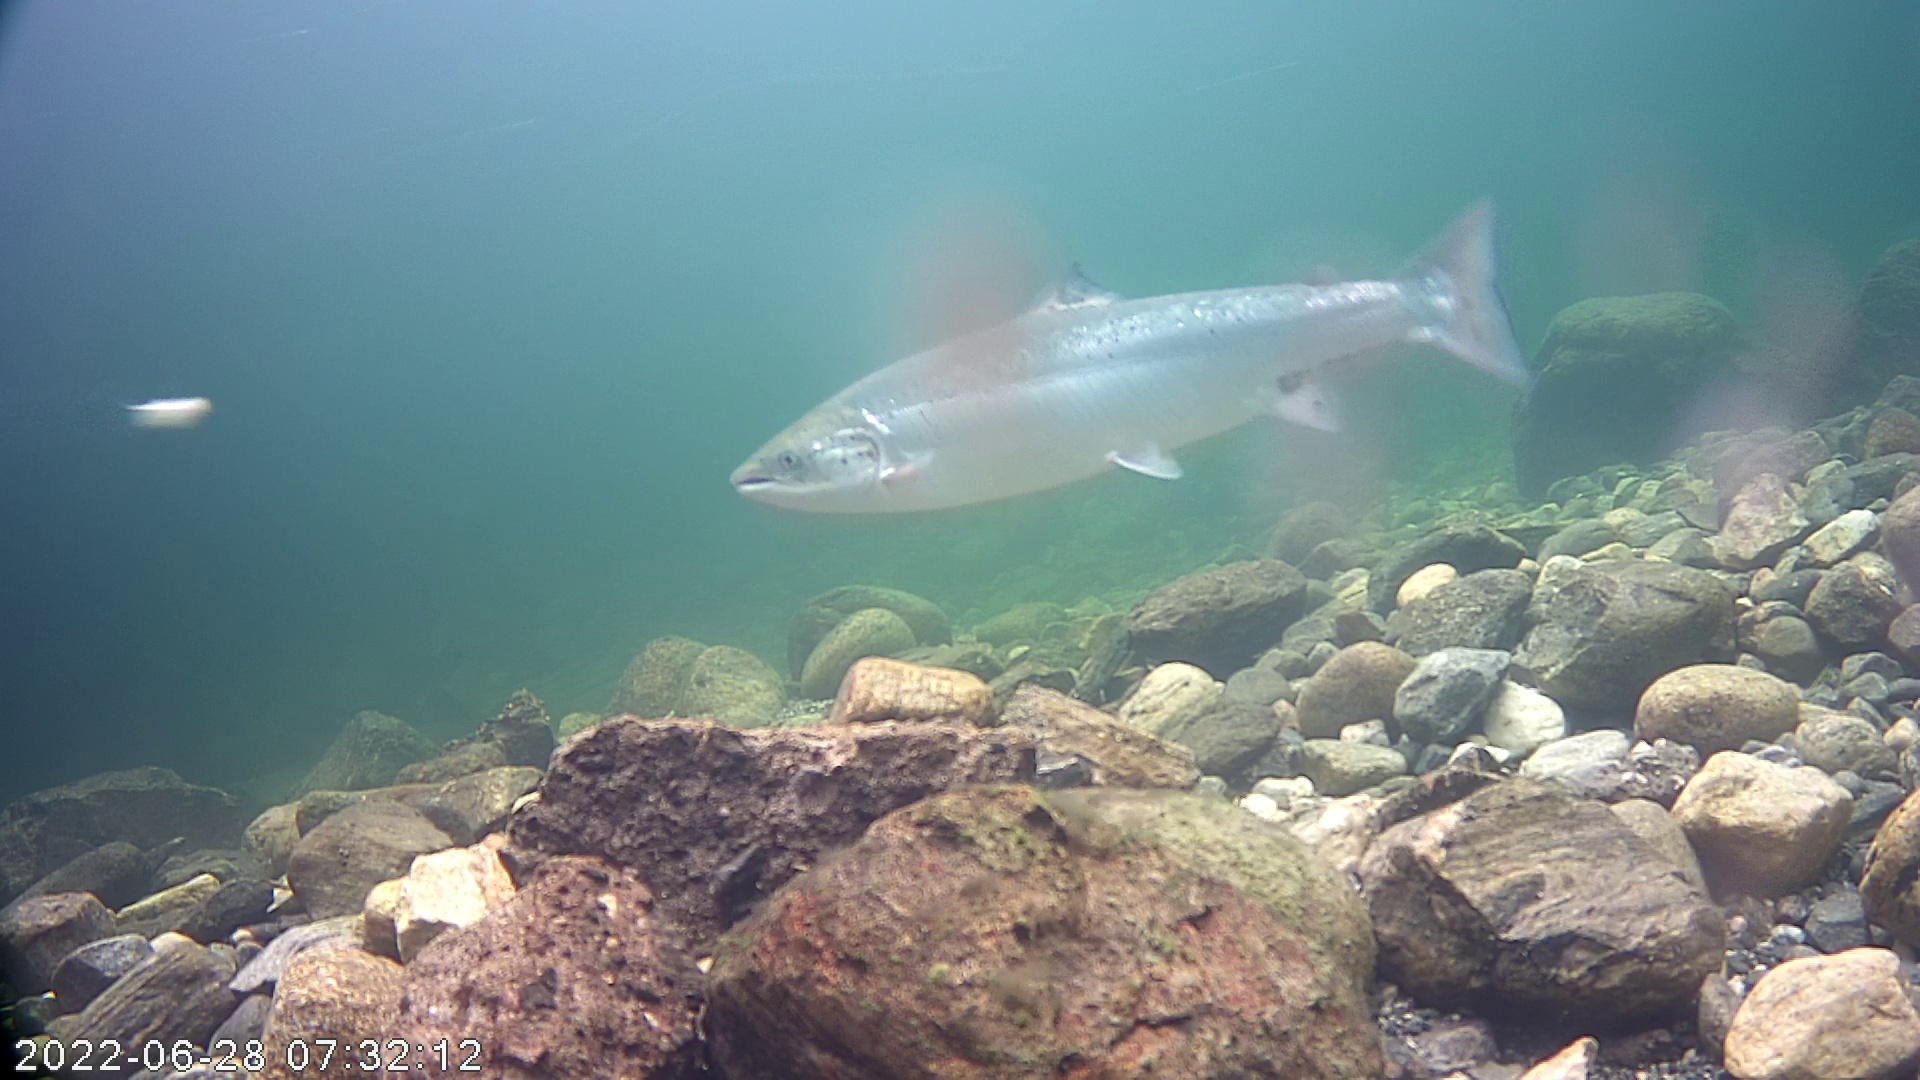salmon: (707, 141, 1571, 568)
